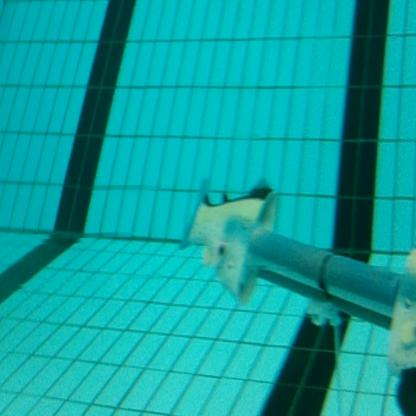tail: (180, 170, 278, 307)
